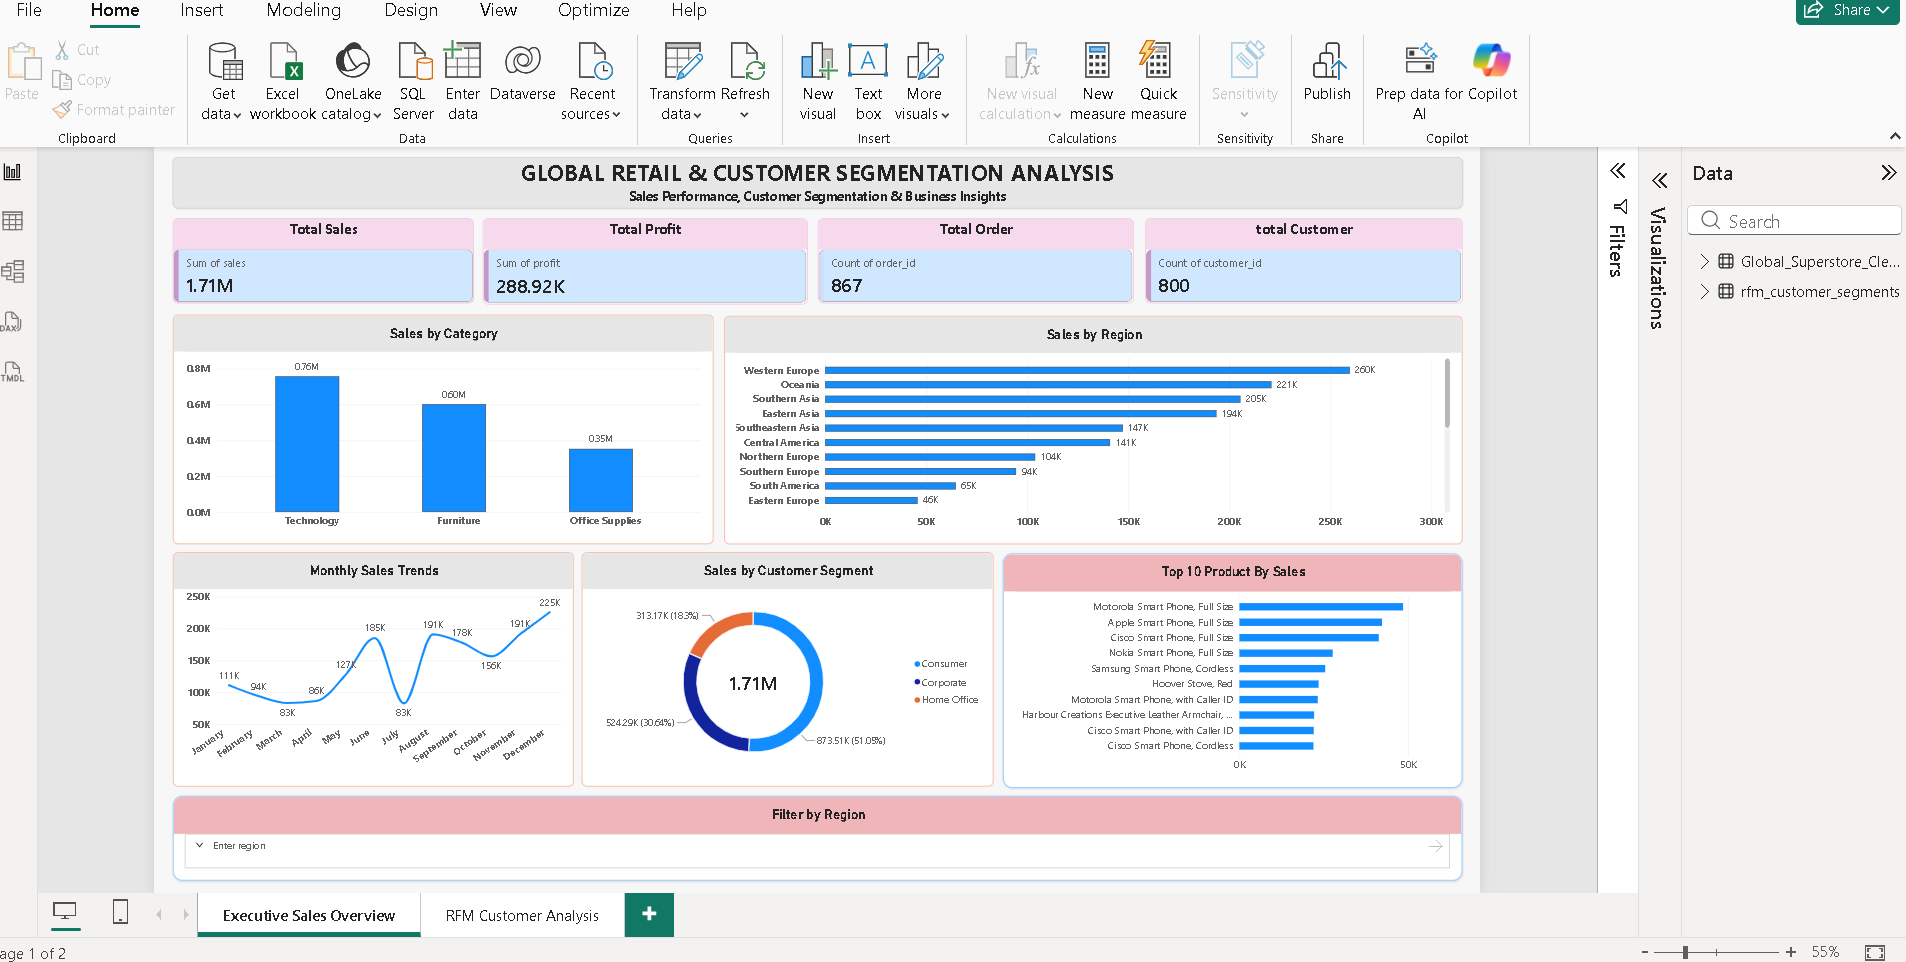

Layout of this report page (visuals, bound fields, positions):
{"tool":"powerbi","page":{"name":"Executive Sales Overview","canvas":[1920,1080],"ordinal":0},"visuals":[{"type":"cardVisual","title":"Total Sales","fields":{"Data":["Sum(Global_Superstore_Cleaned (1).sales)"]},"box":[27.1,103.2,436.1,123.1],"z":0},{"type":"cardVisual","title":"Total Profit","fields":{"Data":["Sum(Global_Superstore_Cleaned (1).profit)"]},"box":[475.9,103.2,470.5,124.9],"z":1000},{"type":"cardVisual","title":"Total Order","fields":{"Data":["Count(Global_Superstore_Cleaned (1).order_id)"]},"box":[960.9,103.2,457.8,123.1],"z":2000},{"type":"cardVisual","title":"total Customer","fields":{"Data":["Count(Global_Superstore_Cleaned (1).customer_id)"]},"box":[1435.1,103.2,459.7,123.1],"z":3000},{"type":"clusteredColumnChart","title":"Sales by Category","fields":{"Category":["Global_Superstore_Cleaned (1).category"],"Y":["Sum(Global_Superstore_Cleaned (1).sales)"]},"box":[27.1,242.5,783.6,333],"z":4000},{"type":"textSlicer","title":"Filter by Region","fields":{"Values":["Global_Superstore_Cleaned (1).region"]},"box":[27.1,939.2,1867.6,123.1],"z":5000},{"type":"clusteredBarChart","title":"Sales by Region","fields":{"Category":["Global_Superstore_Cleaned (1).region"],"Y":["Sum(Global_Superstore_Cleaned (1).sales)"]},"box":[825.2,244.3,1069.5,331.2],"z":6000},{"type":"lineChart","title":"Monthly Sales Trends","fields":{"Category":["Global_Superstore_Cleaned (1).order_date.Variation.Date Hierarchy.Month"],"Y":["Sum(Global_Superstore_Cleaned (1).sales)"]},"box":[27.1,586.3,580.9,340.2],"z":7000},{"type":"donutChart","title":"Sales by Customer Segment","fields":{"Category":["Global_Superstore_Cleaned (1).segment"],"Y":["Sum(Global_Superstore_Cleaned (1).sales)"]},"box":[618.9,586.3,597.2,340.2],"z":8000},{"type":"clusteredBarChart","title":"Top 10 Product By Sales","fields":{"Category":["Global_Superstore_Cleaned (1).product_name"],"Y":["Sum(Global_Superstore_Cleaned (1).sales)"]},"box":[1228.8,588.1,666,340.2],"z":9000},{"type":"textbox","box":[27.1,14.5,1867.6,74.2],"z":10000},{"type":"textbox","box":[27.1,14.5,1867.6,74.2],"z":11000}]}

Visuals, with their boxes on the page's 1920x1080 design canvas (x1, y1, x2, y2). These are canvas units, not pixel positions in the 1906x962 screenshot, which may show the page scaled, cropped or inside an application window:
"Total Sales" cardVisual: 27:103:463:226
"Total Profit" cardVisual: 476:103:946:228
"Total Order" cardVisual: 961:103:1419:226
"total Customer" cardVisual: 1435:103:1895:226
"Sales by Category" clusteredColumnChart: 27:242:811:576
"Filter by Region" textSlicer: 27:939:1895:1062
"Sales by Region" clusteredBarChart: 825:244:1895:576
"Monthly Sales Trends" lineChart: 27:586:608:926
"Sales by Customer Segment" donutChart: 619:586:1216:926
"Top 10 Product By Sales" clusteredBarChart: 1229:588:1895:928
textbox: 27:14:1895:89
textbox: 27:14:1895:89
